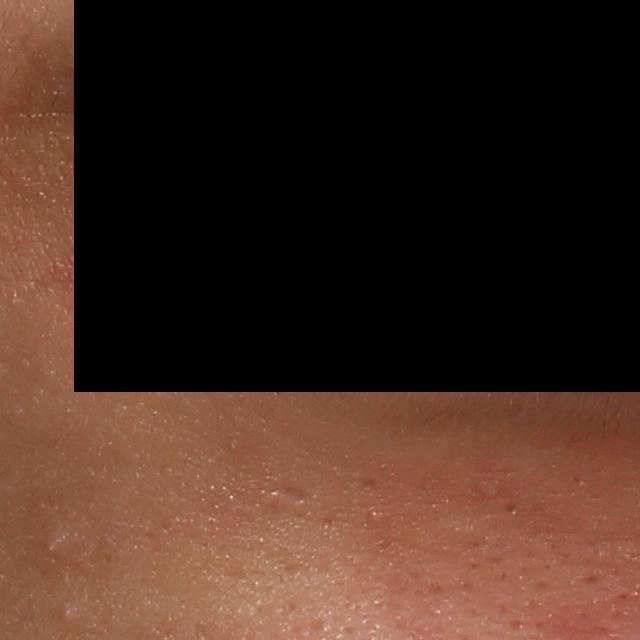atrophic_scar: (275, 482, 312, 506)
comedo: (42, 532, 66, 562), (60, 603, 78, 626), (501, 500, 521, 520), (368, 507, 388, 526)
